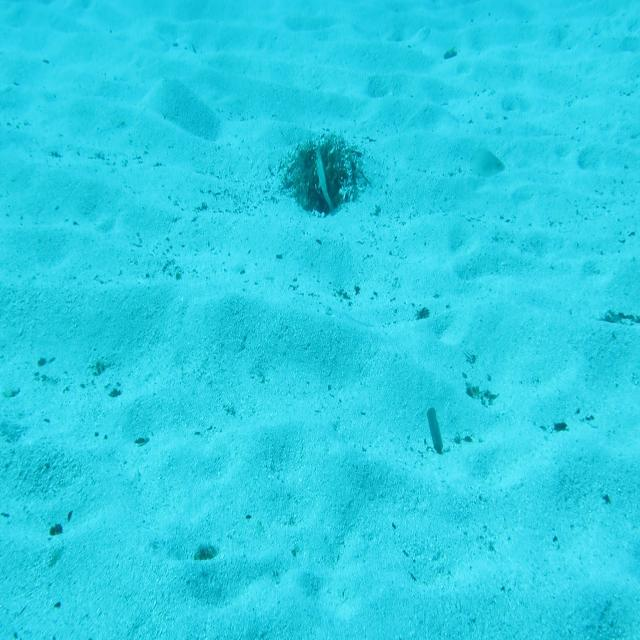FAN: (314, 150, 338, 216)
female: (464, 143, 506, 180)
nest: (280, 137, 368, 220)
vegetation: (426, 411, 445, 464), (589, 318, 638, 338), (197, 532, 224, 555), (444, 54, 460, 68)
